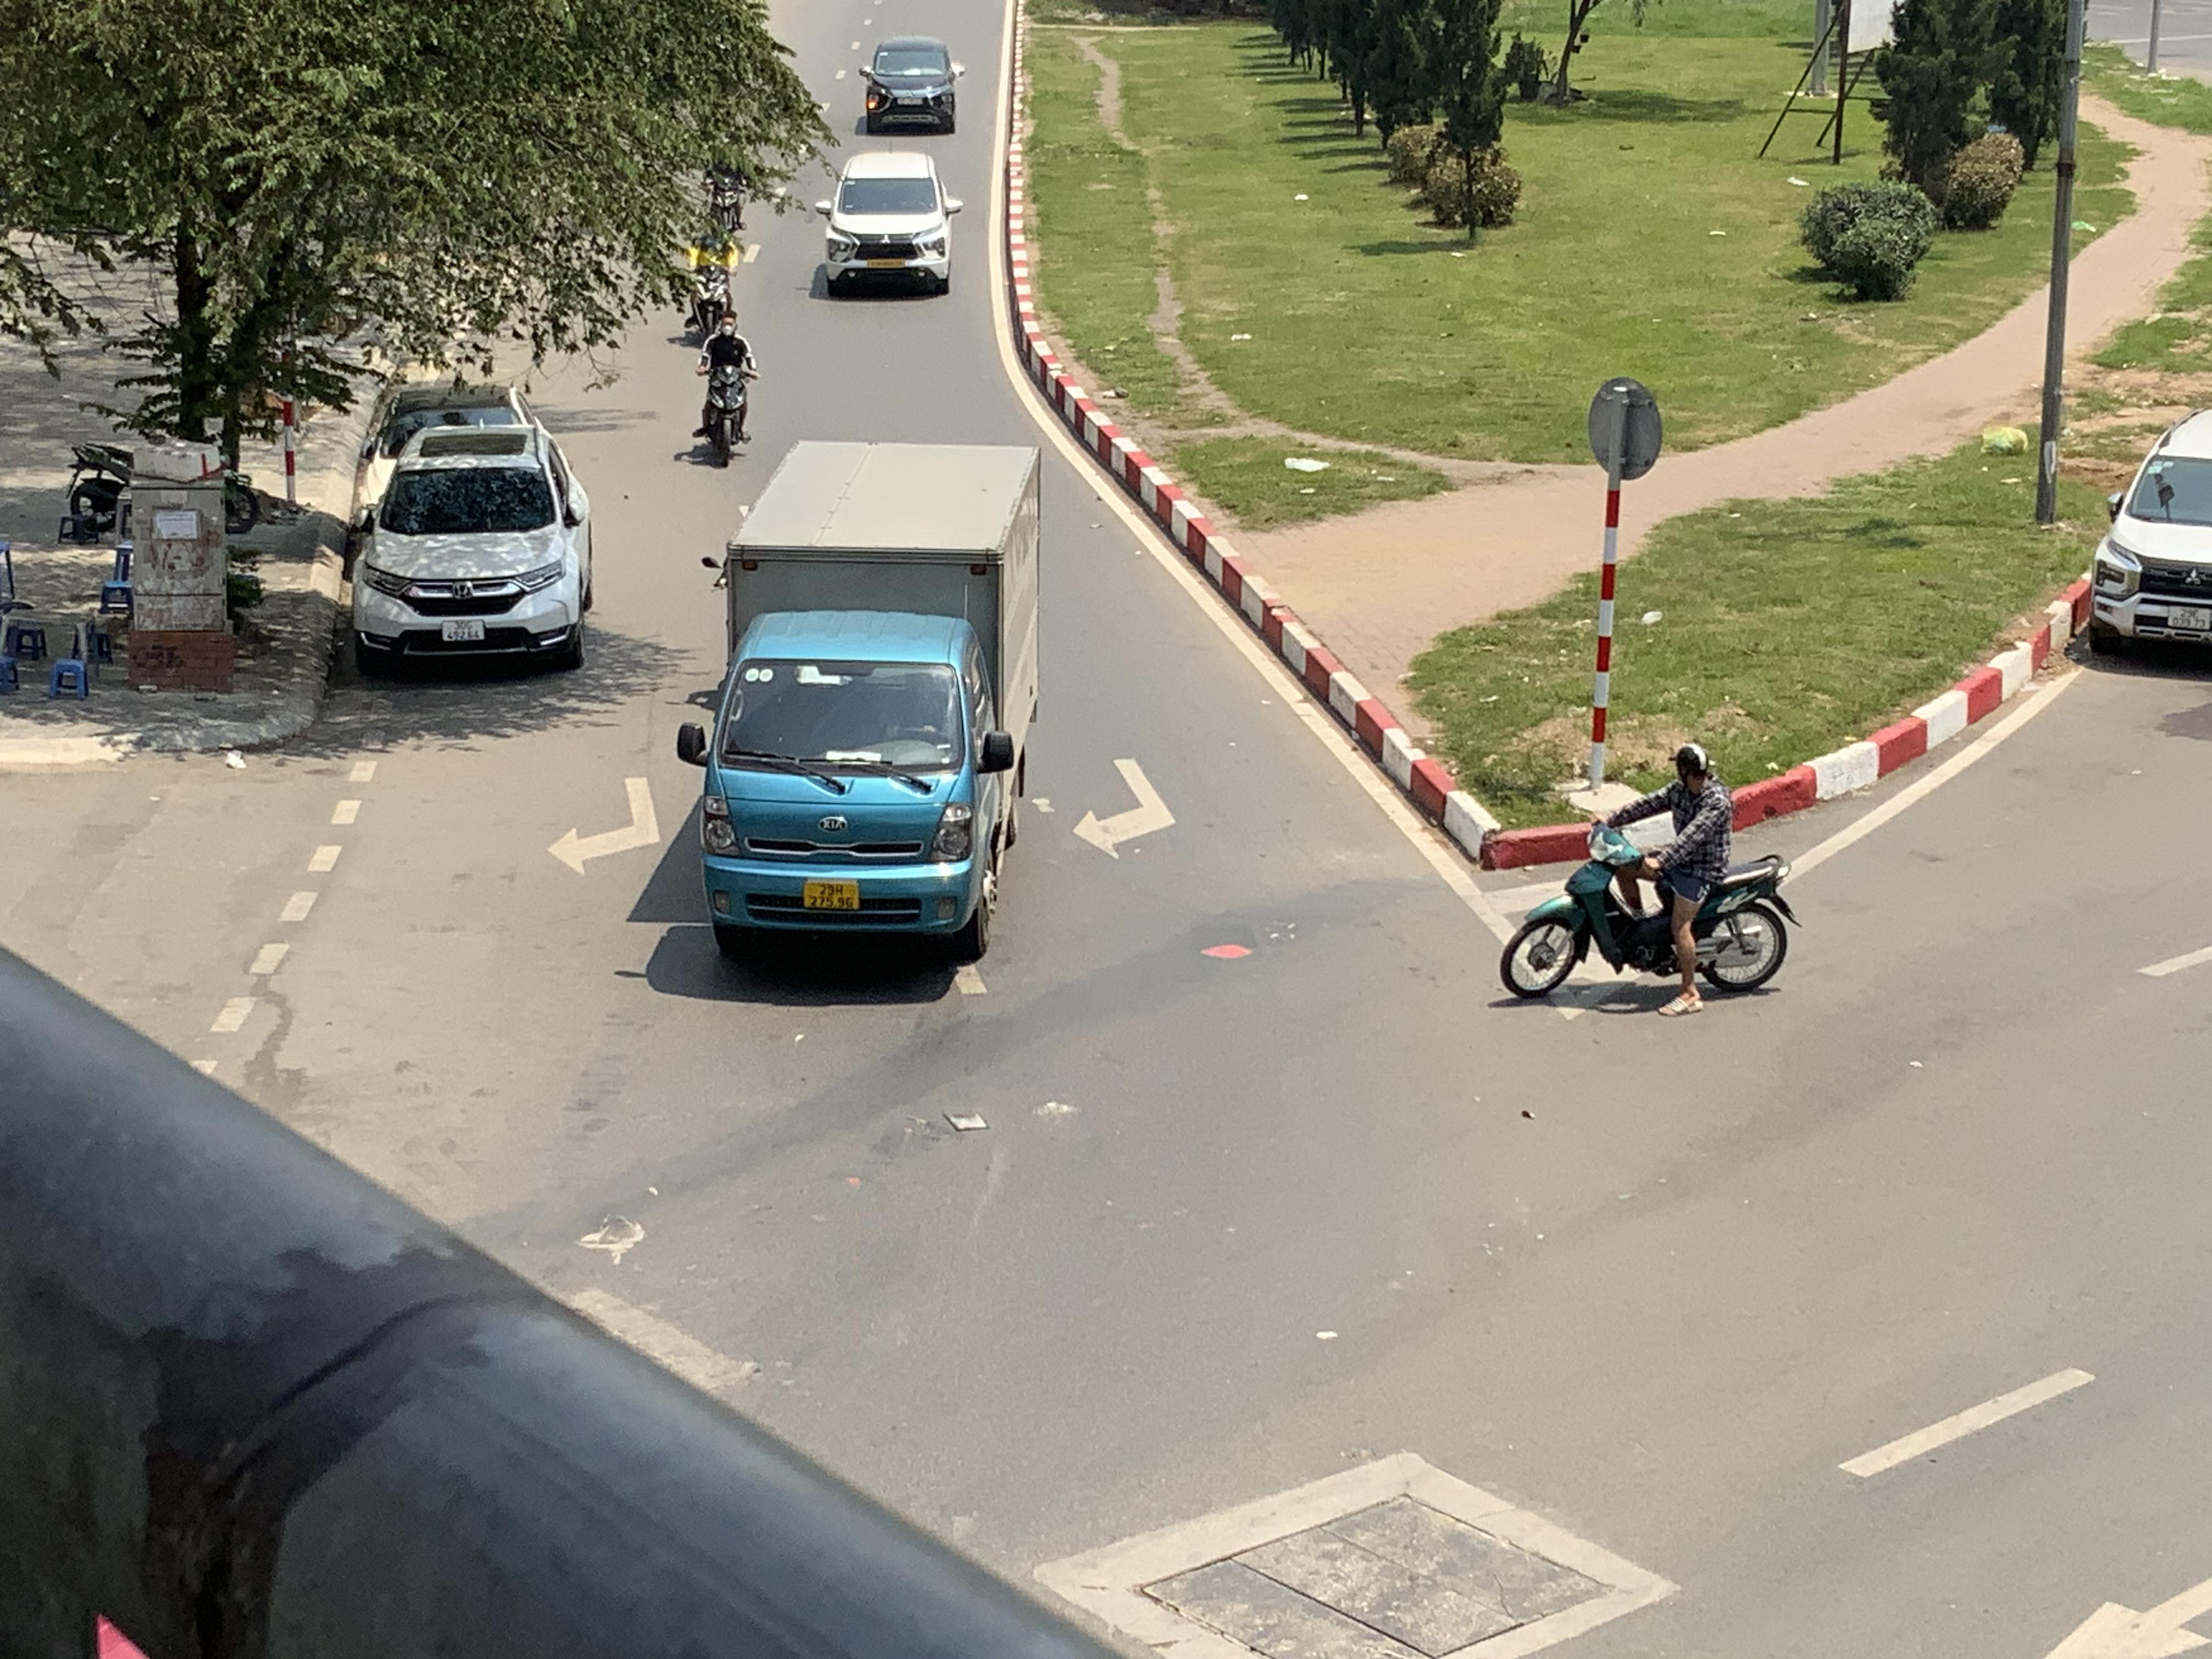BSV: (803, 880, 859, 910), (2167, 603, 2212, 631), (441, 617, 486, 641)
car: (343, 380, 596, 678), (2083, 399, 2212, 667), (813, 152, 963, 298), (59, 430, 251, 542), (857, 35, 963, 134)
motorbike: (1498, 742, 1797, 1002), (690, 314, 756, 467), (679, 235, 737, 343)
truck: (676, 437, 1049, 965)
